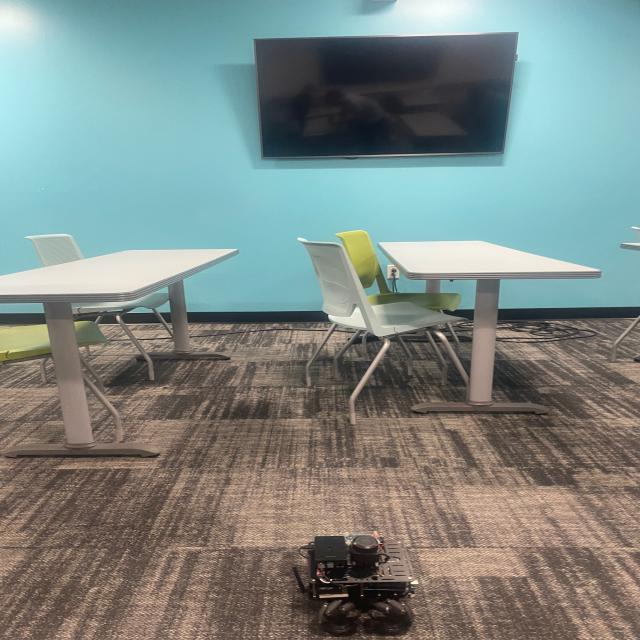ArduinoCar3: (292, 532, 418, 636)
